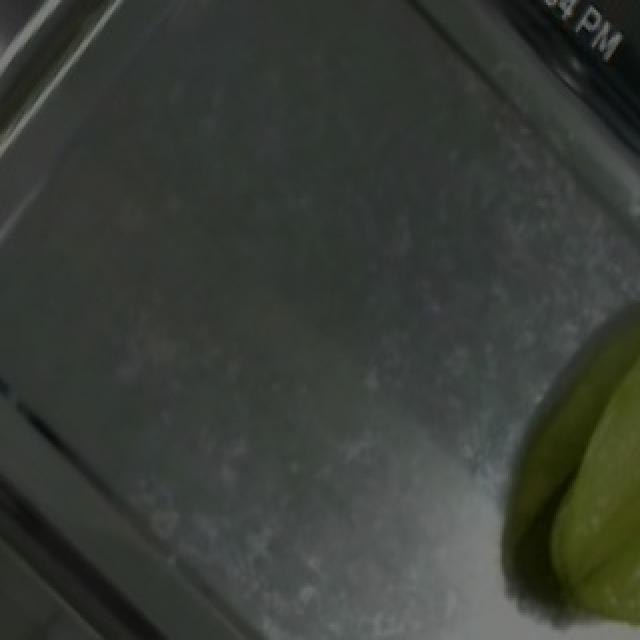fruit: (524, 302, 640, 638)
